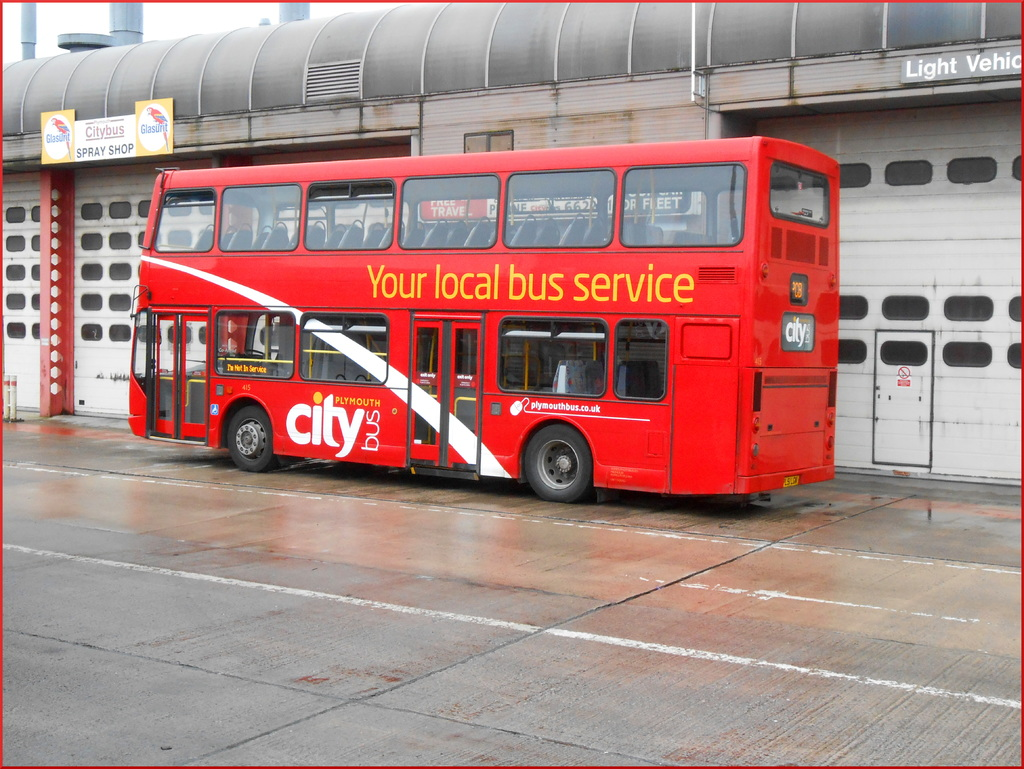Bus: (127, 133, 840, 500)
